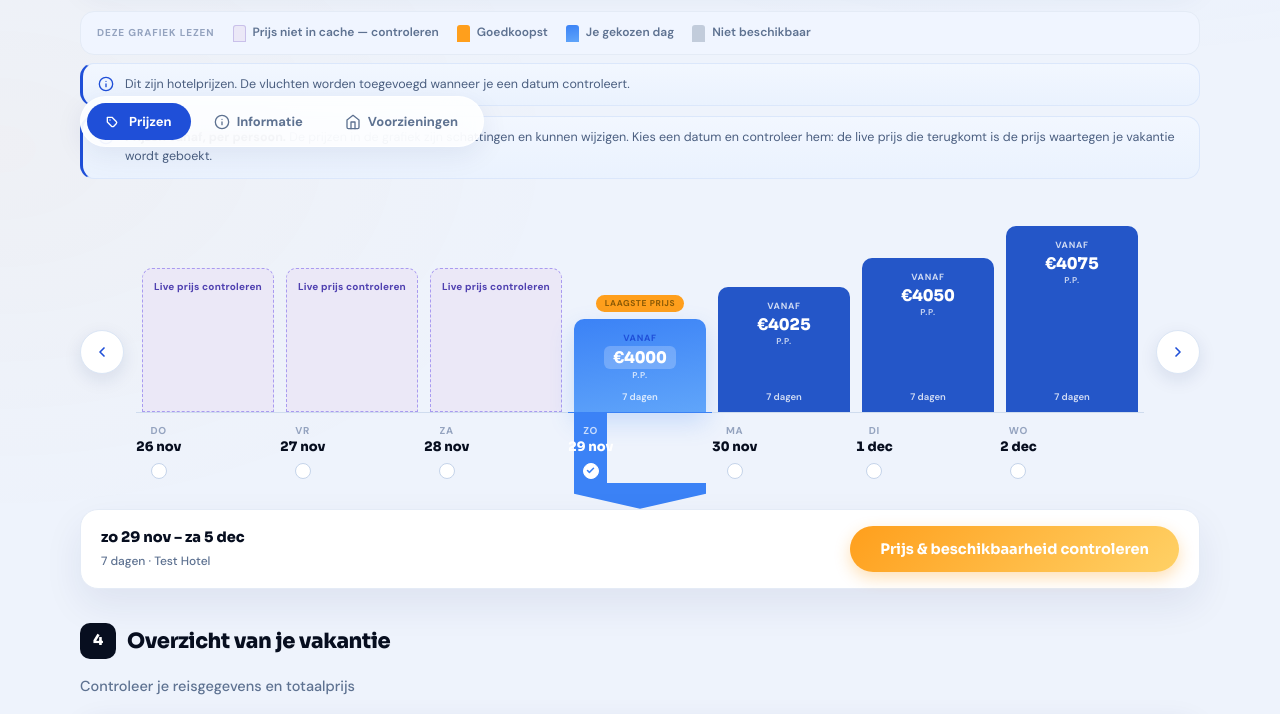
Test case: a room row never quotes what cancelling would cost › still says outright when a rate cannot be cancelled at all
The width and height of the screenshot is (1280, 714).
(page scrolled)
Click the button "Laagste prijs vanaf €4000 p.p. 7 dagen zo 29 nov": point(640, 355) [568, 201, 712, 509]
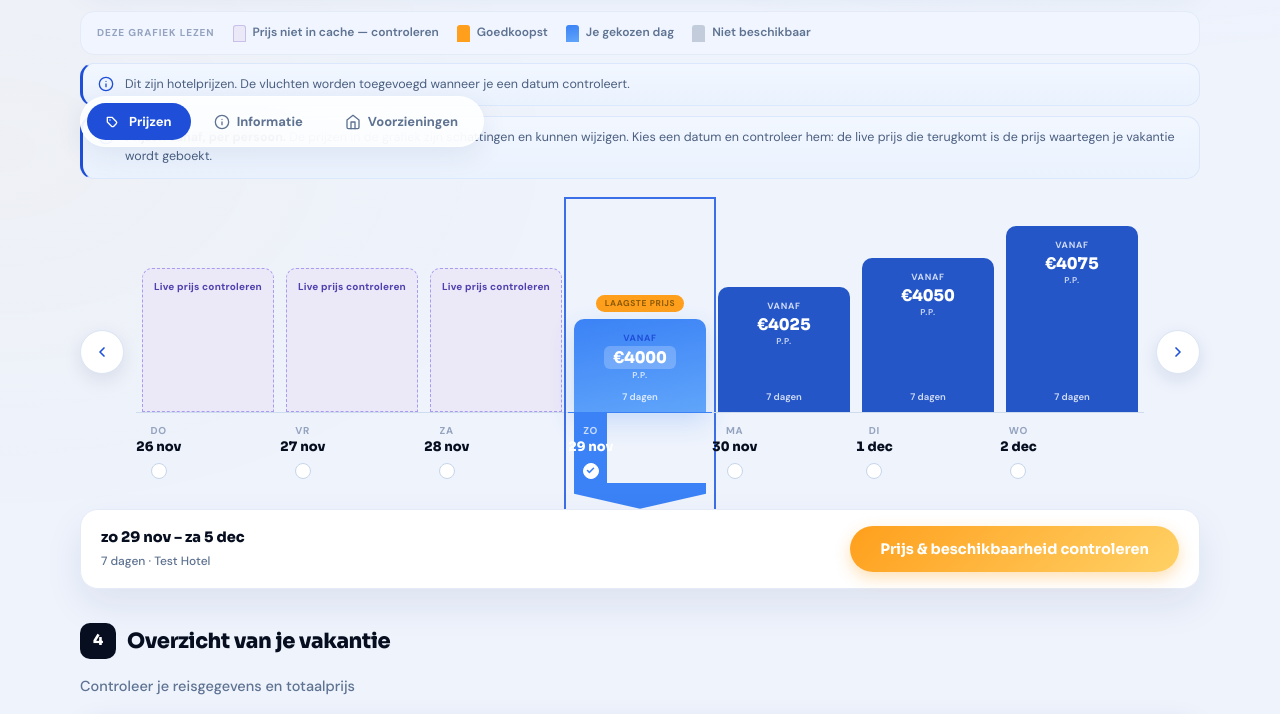
Click the button "Prijs & beschikbaarheid controleren": point(1015, 549) [850, 526, 1179, 572]
(page scrolled)
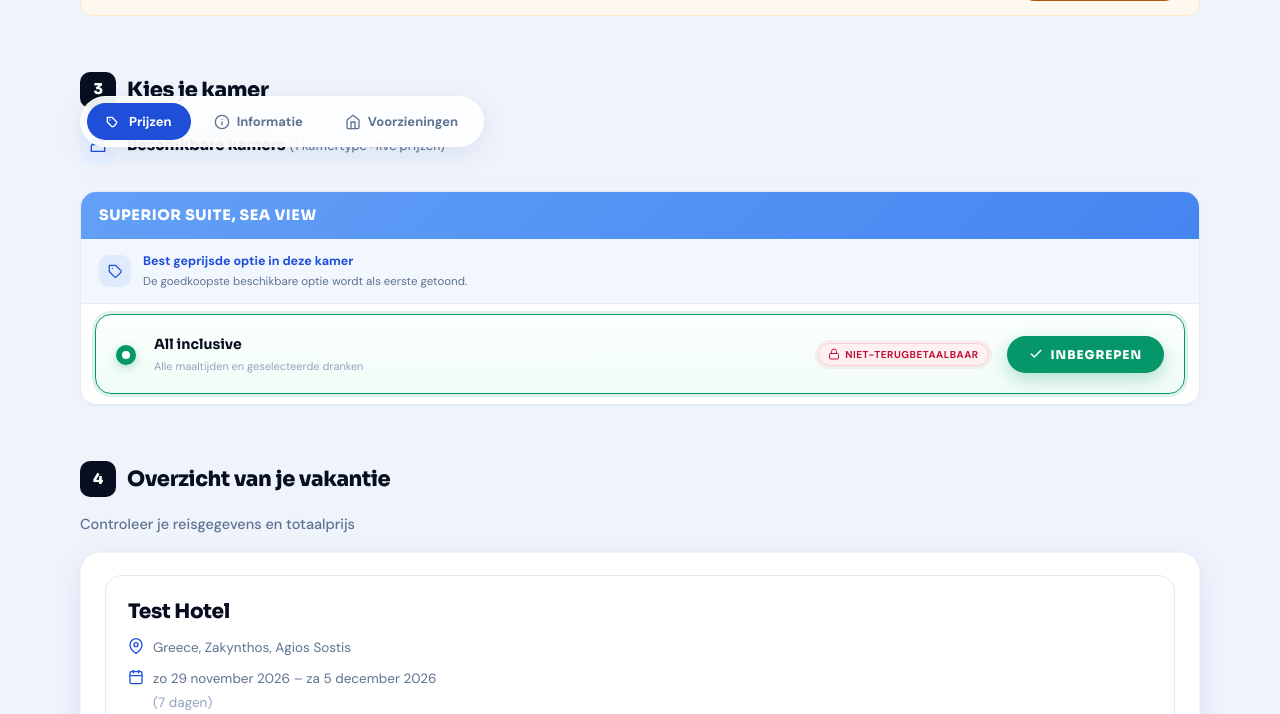
Now the element with class "room-option" is shown, box [95, 314, 1185, 394]
Now the element with class "room-option" shows "Niet-terugbetaalbaar", box [845, 348, 978, 360]
